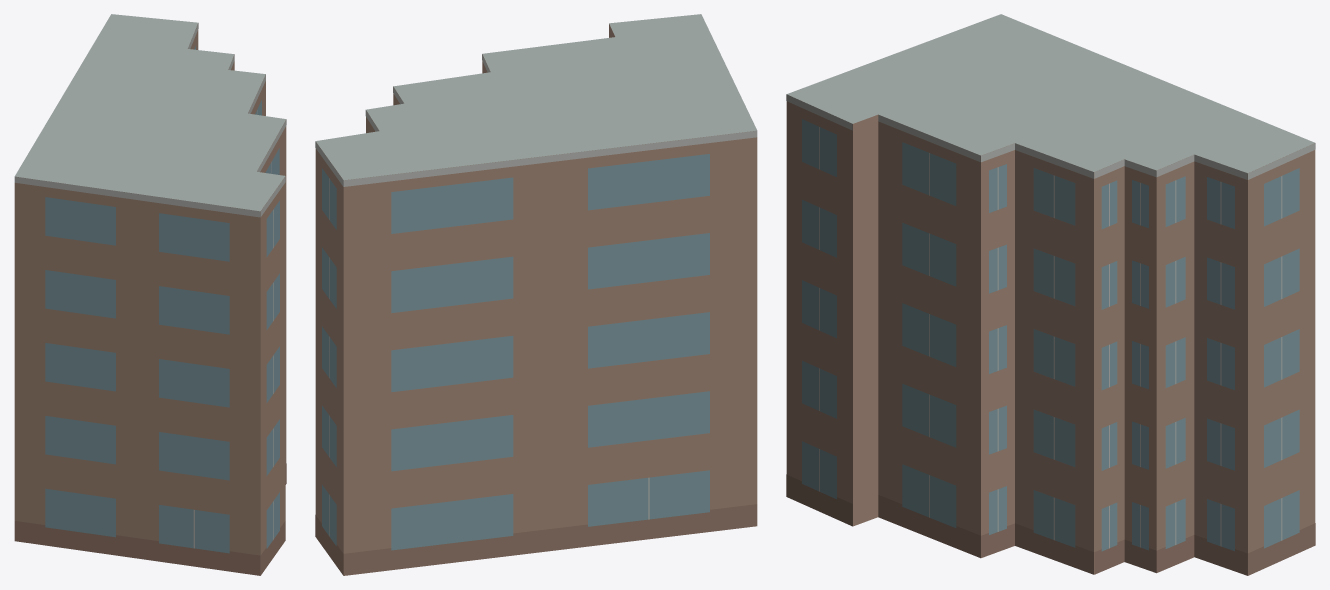
The model's file is survey-upis-32523880.glb.
3 renders of one model, left to right at view 1: azimuth 30°, elevation 25°; view 2: azimuth 150°, elevation 25°; view 3: azimuth 270°, elevation 25°, orthographic. The views are drawn at different scales.
Visible parts, largest first — view 1: survey-upis-32523880.tmp; view 2: survey-upis-32523880.tmp; view 3: survey-upis-32523880.tmp.
Part boxes in pixels (x1,y1,x2,y2): survey-upis-32523880.tmp: (14, 14, 286, 575); survey-upis-32523880.tmp: (315, 14, 757, 575); survey-upis-32523880.tmp: (786, 14, 1315, 575).
Size of the model in its own units: 12.23 by 14.4 by 17.15.
